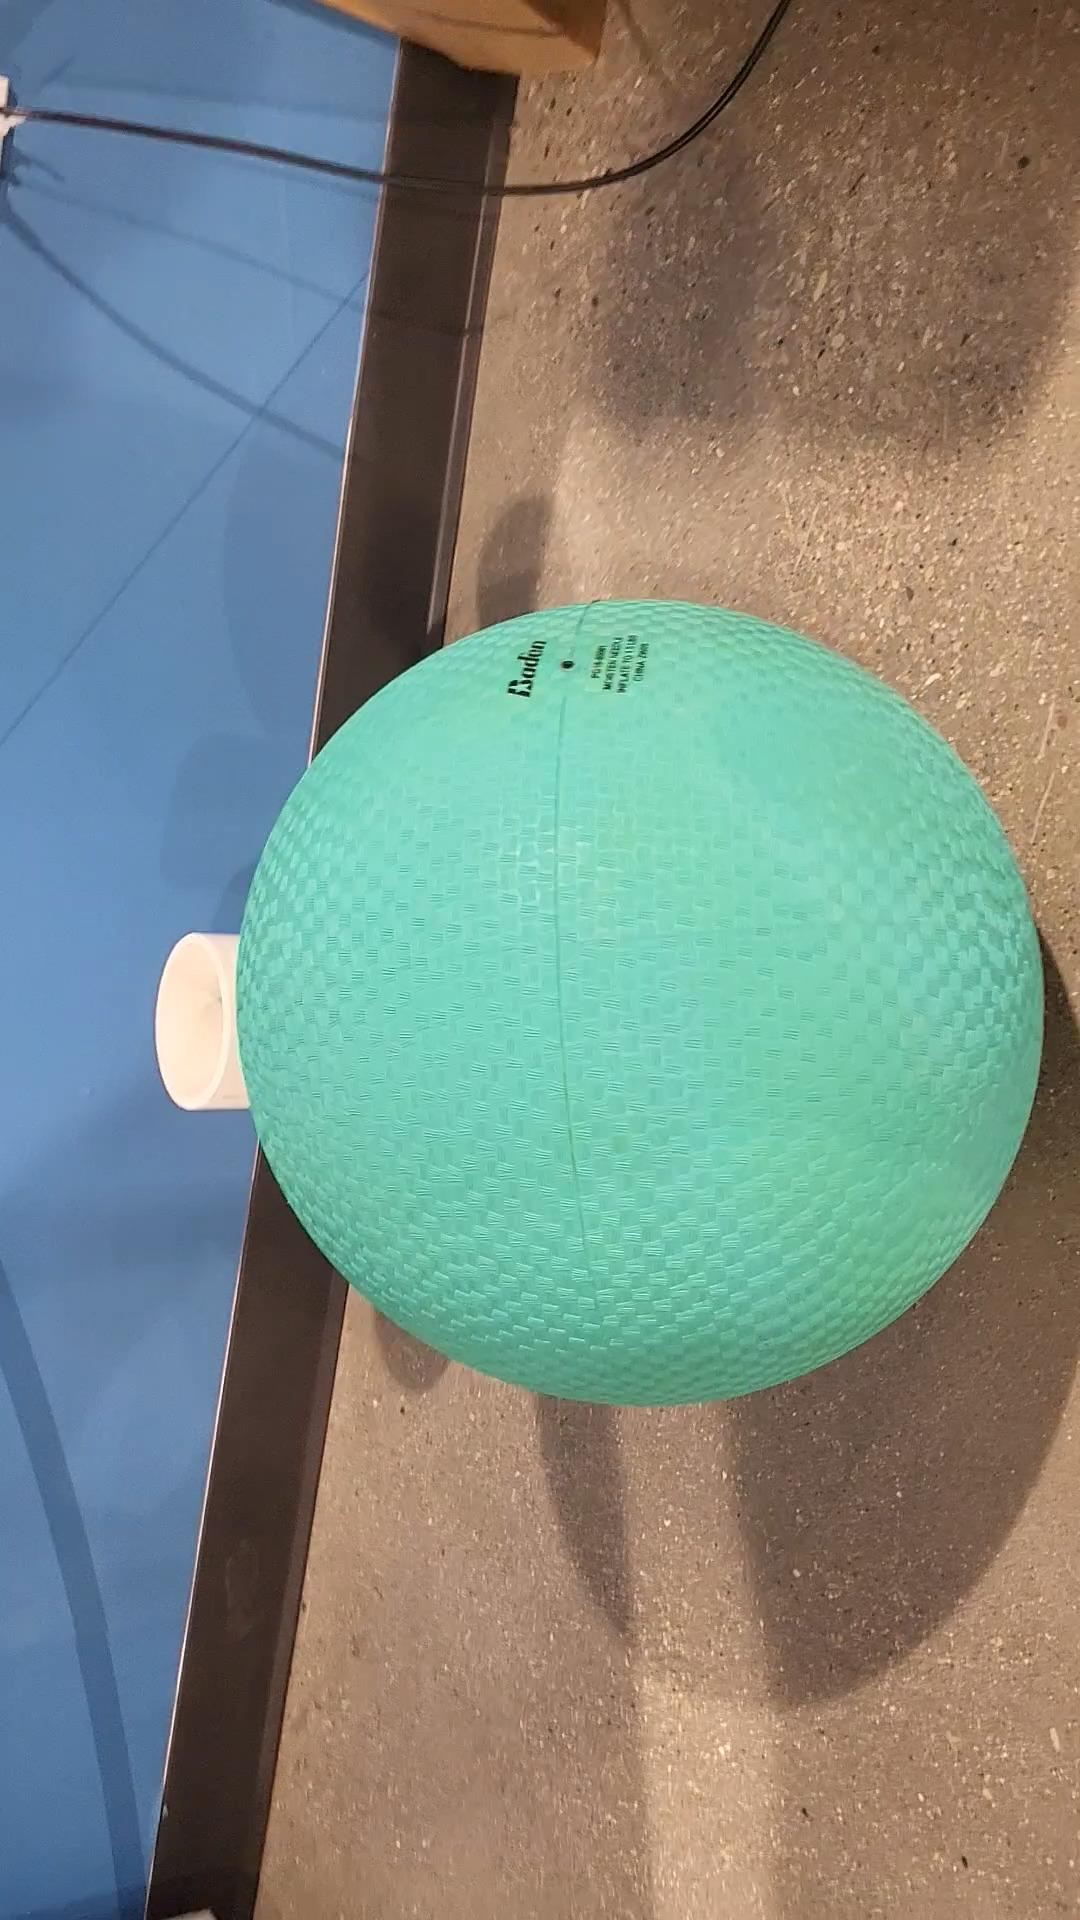algae: (237, 600, 1038, 1407)
coral: (157, 932, 255, 1125)
